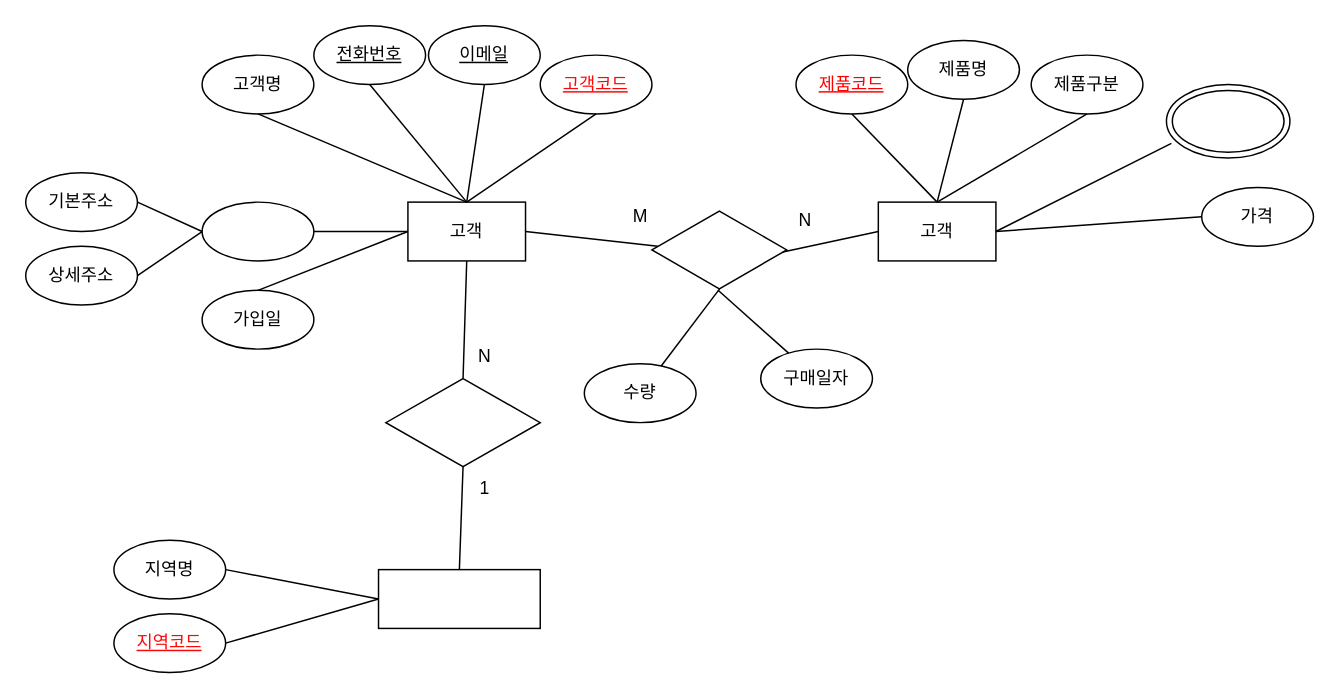
Some shapes in this 1339 by 698 pixel diagram are drawn without their labels. Here are the shapes that lost their labels. From the top down, the centre of each, then its label:
At [1227,120]: "제품색상".
At [257,231]: "주소".
At [718,249]: "구매".
At [462,422]: "관리".
At [458,598]: "지역".
